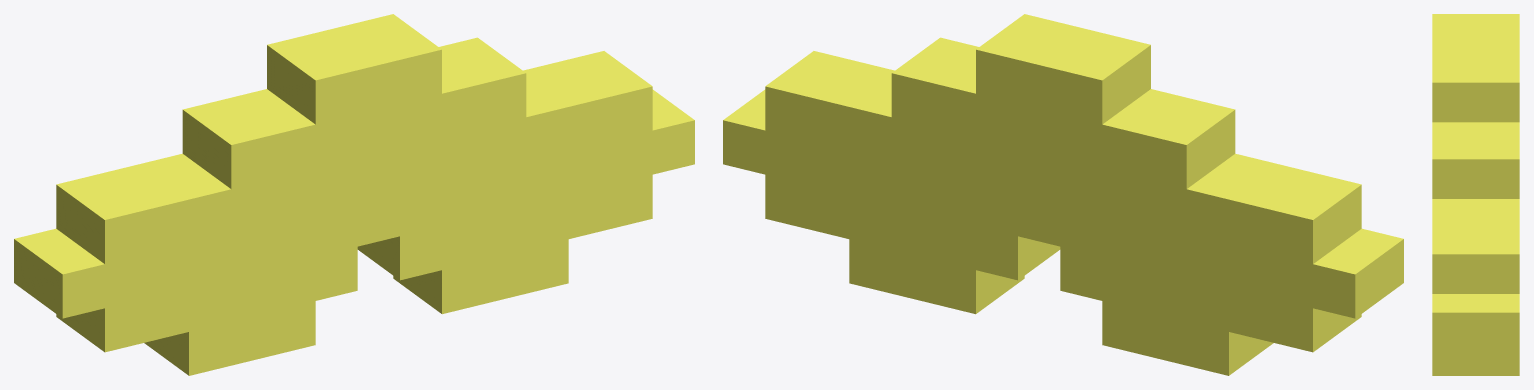
File: pacmand6.fbx
3 renders of one model, left to right at view 1: azimuth 30°, elevation 25°; view 2: azimuth 150°, elevation 25°; view 3: azimuth 270°, elevation 25°, orthographic. The views are drawn at different scales.
Visible parts, largest first — view 1: pacmand6; view 2: pacmand6; view 3: pacmand6.
Part boxes in pixels (x1=…): pacmand6: x1=14, y1=14, x2=694, y2=375; pacmand6: x1=723, y1=14, x2=1403, y2=375; pacmand6: x1=1432, y1=14, x2=1519, y2=375.
Bounding box in the file's own units: 150 × 60 × 20.
